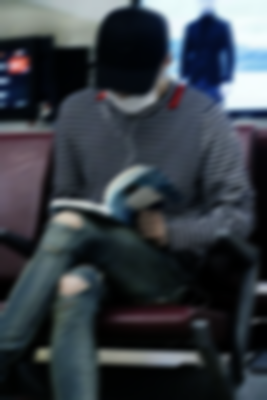mask_weared_incorrect: (105, 76, 161, 116)
